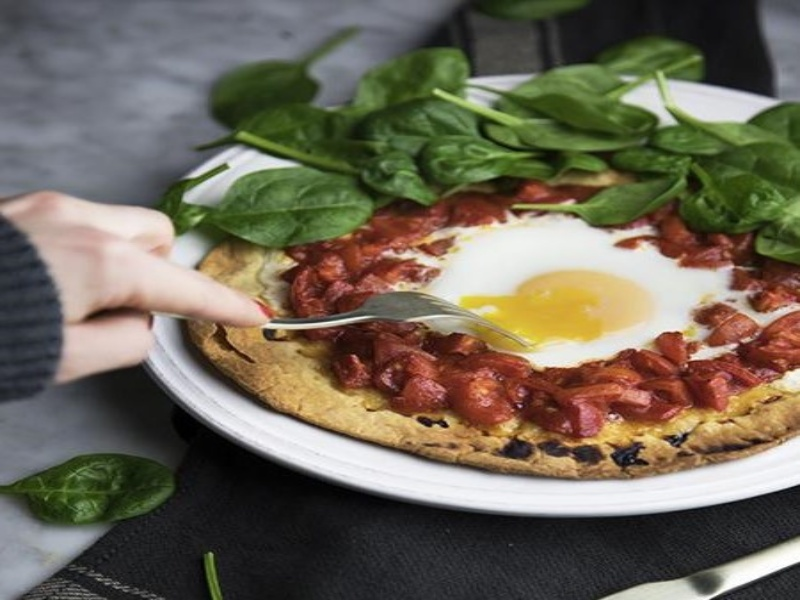oeuf: (476, 253, 669, 355)
